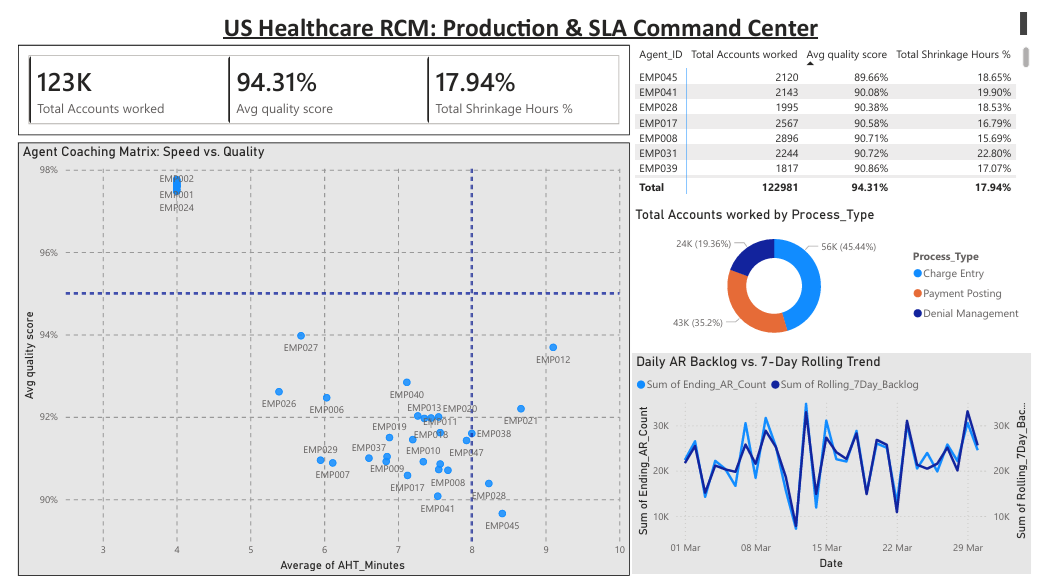

This screenshot's page, from the dashboard's own definition file:
{"tool":"powerbi","page":{"name":"Page 1","canvas":[1280,720],"ordinal":0},"visuals":[{"type":"cardVisual","fields":{"Data":["Agent_Performance_Log.Total Accounts worked","Agent_Performance_Log.Avg quality score","Roster_and_Shrinkage.Total Shrinkage Hours %"]},"box":[10.6,57.1,765.2,112.9],"z":0},{"type":"scatterChart","title":"Agent Coaching Matrix: Speed vs. Quality","fields":{"Category":["Dim_Agent.Agent_ID"],"X":["Avg(Agent_Performance_Log.AHT_Minutes)"],"Y":["Agent_Performance_Log.Avg quality score"]},"box":[10.6,179.3,765.2,540.7],"z":2},{"type":"lineChart","title":"Daily AR Backlog vs. 7-Day Rolling Trend","fields":{"Y":["Sum(SLA_Trend_Data.Ending_AR_Count)"],"Category":["SLA_Trend_Data.Date"],"Y2":["Sum(SLA_Trend_Data.Rolling_7Day_Backlog)"]},"box":[779,441.8,498.2,275.3],"z":3},{"type":"donutChart","fields":{"Category":["Agent_Performance_Log.Process_Type"],"Y":["Agent_Performance_Log.Total Accounts worked"]},"box":[778.5,259,498.2,179.3],"z":5},{"type":"pivotTable","fields":{"Rows":["Dim_Agent.Agent_ID"],"Values":["Agent_Performance_Log.Total Accounts worked","Agent_Performance_Log.Avg quality score","Roster_and_Shrinkage.Total Shrinkage Hours %"]},"box":[778.5,54.5,502.1,193.9],"z":6},{"type":"textbox","box":[10.6,10.6,1266,43.8],"z":7}]}

Visuals, with their boxes in screenshot pixels (x1, y1, x2, y2), scaled from the page's 1280x720 canvas onto the 1047x587 screenshot:
cardVisual - Agent_Performance_Log.Total Accounts worked x Agent_Performance_Log.Avg quality score: bbox=[9, 47, 635, 139]
"Agent Coaching Matrix: Speed vs. Quality" scatterChart: bbox=[9, 146, 635, 586]
"Daily AR Backlog vs. 7-Day Rolling Trend" lineChart: bbox=[637, 360, 1045, 585]
donutChart - Agent_Performance_Log.Process_Type x Agent_Performance_Log.Total Accounts worked: bbox=[637, 211, 1044, 357]
pivotTable - Dim_Agent.Agent_ID x Agent_Performance_Log.Total Accounts worked: bbox=[637, 44, 1046, 203]
textbox: bbox=[9, 9, 1044, 44]
